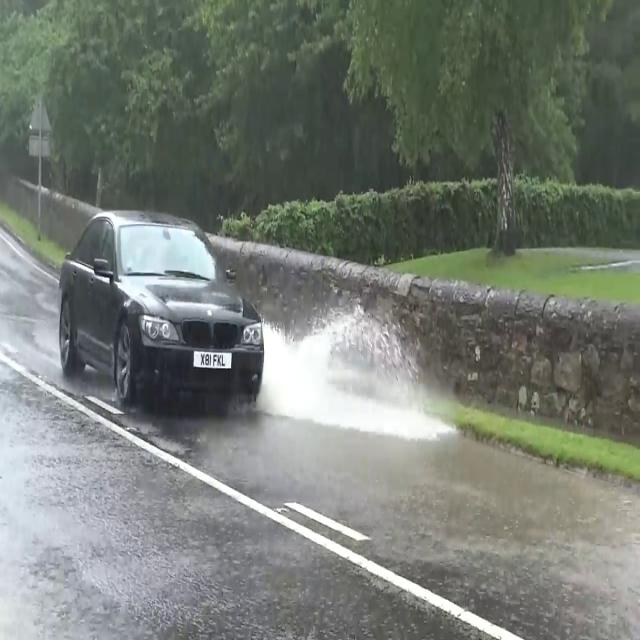license-plate-annotation: (195, 348, 235, 372)
